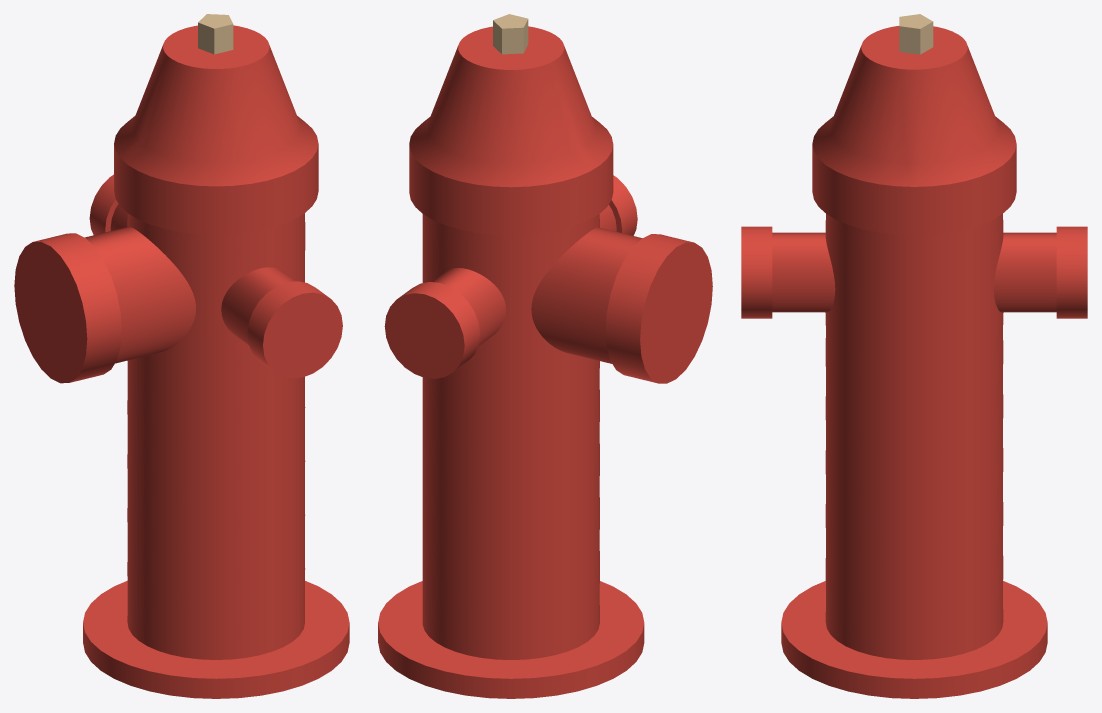
File: fire_hydrant.glb
3 views of the same model, side by side, from view 1: azimuth 30°, elevation 25°; view 2: azimuth 150°, elevation 25°; view 3: azimuth 270°, elevation 25° (orthographic).
Visible parts, largest first — view 1: body, pumper_cap, hose_cap_r, operating_nut, hose_cap_l; view 2: body, pumper_cap, hose_cap_l, operating_nut, hose_cap_r; view 3: body, hose_cap_l, hose_cap_r, operating_nut.
Boxes of the visible parts, <box> form: body: <box>83,25,349,698</box>; pumper_cap: <box>14,233,121,383</box>; hose_cap_r: <box>247,281,342,378</box>; operating_nut: <box>198,14,233,54</box>; hose_cap_l: <box>89,174,118,234</box>; body: <box>378,26,644,698</box>; pumper_cap: <box>605,234,712,383</box>; hose_cap_l: <box>384,282,480,378</box>; operating_nut: <box>493,14,528,54</box>; hose_cap_r: <box>609,175,637,235</box>; body: <box>772,26,1056,698</box>; hose_cap_l: <box>1056,226,1087,318</box>; hose_cap_r: <box>741,226,772,318</box>; operating_nut: <box>899,14,933,54</box>.
Bounding box in the file's own units: 0.365 × 0.772 × 0.39.
